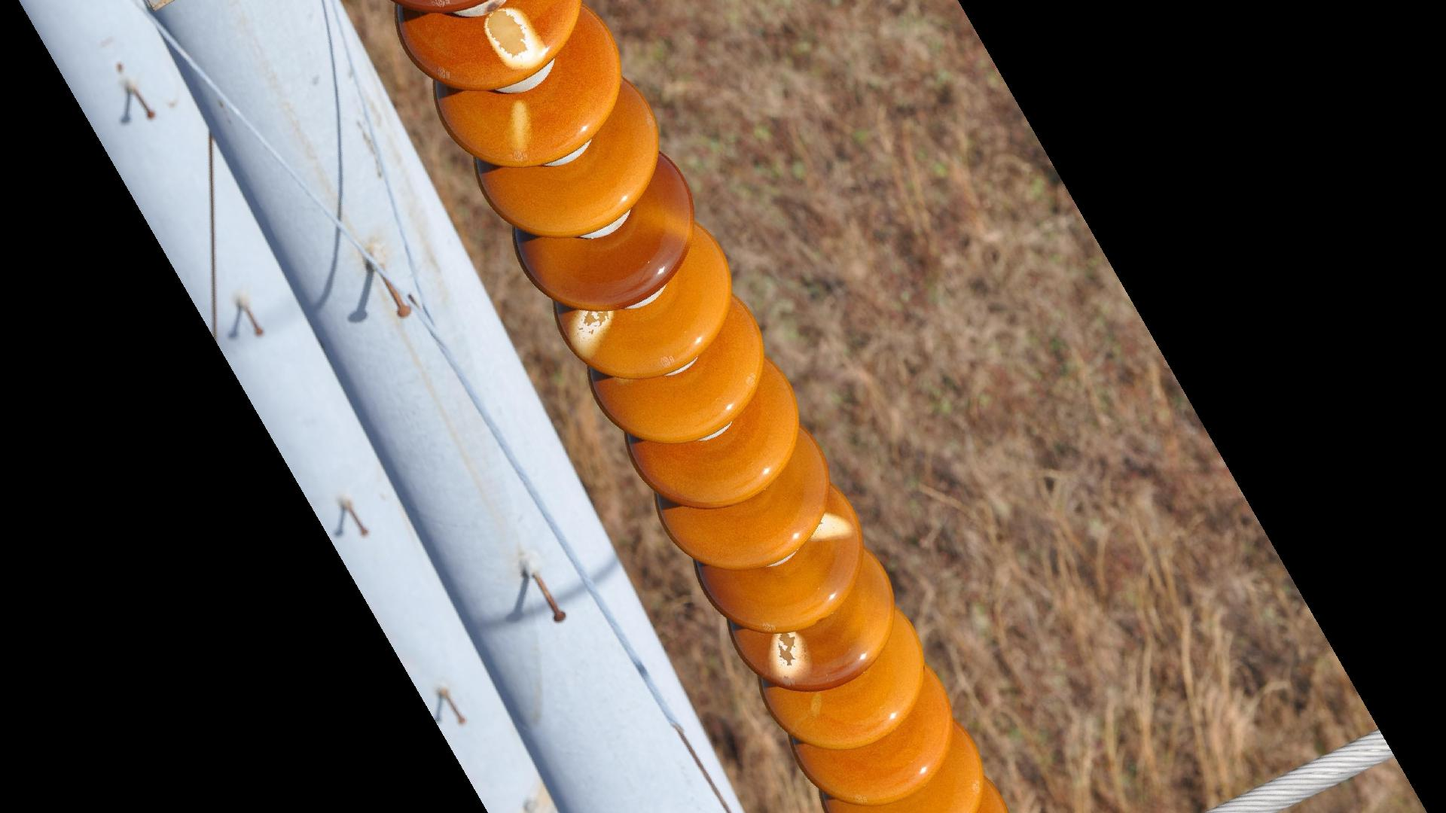insulator: (386, 1, 1017, 813)
insulator_flashover: (480, 6, 549, 75), (561, 305, 616, 361), (765, 628, 813, 689), (499, 96, 535, 166), (806, 509, 856, 546)
